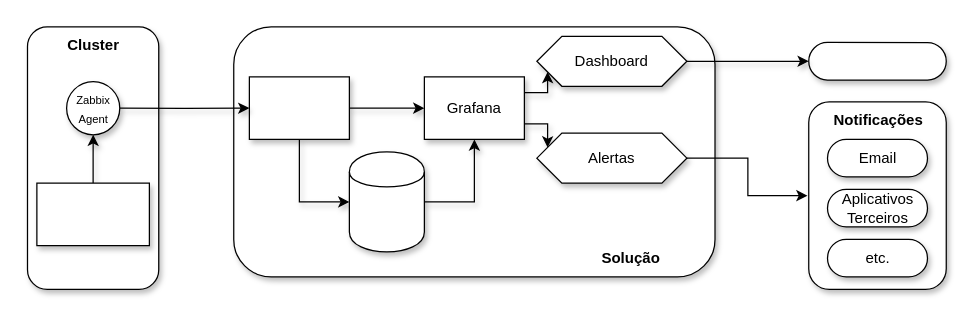
This 975x320 diagram has some shape labels left out. The centre of each missing label's shape, as x and y in pixels:
"MySQL" goes at point 387,203.
"Servidor" goes at point 94,215.
"Visualização" goes at point 878,62.
"Zabbix" goes at point 300,109.
